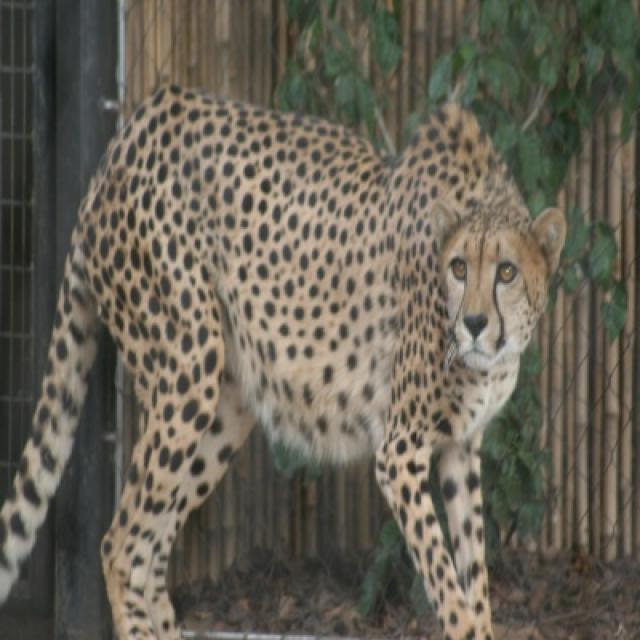Cheetah: (0, 86, 565, 638)
